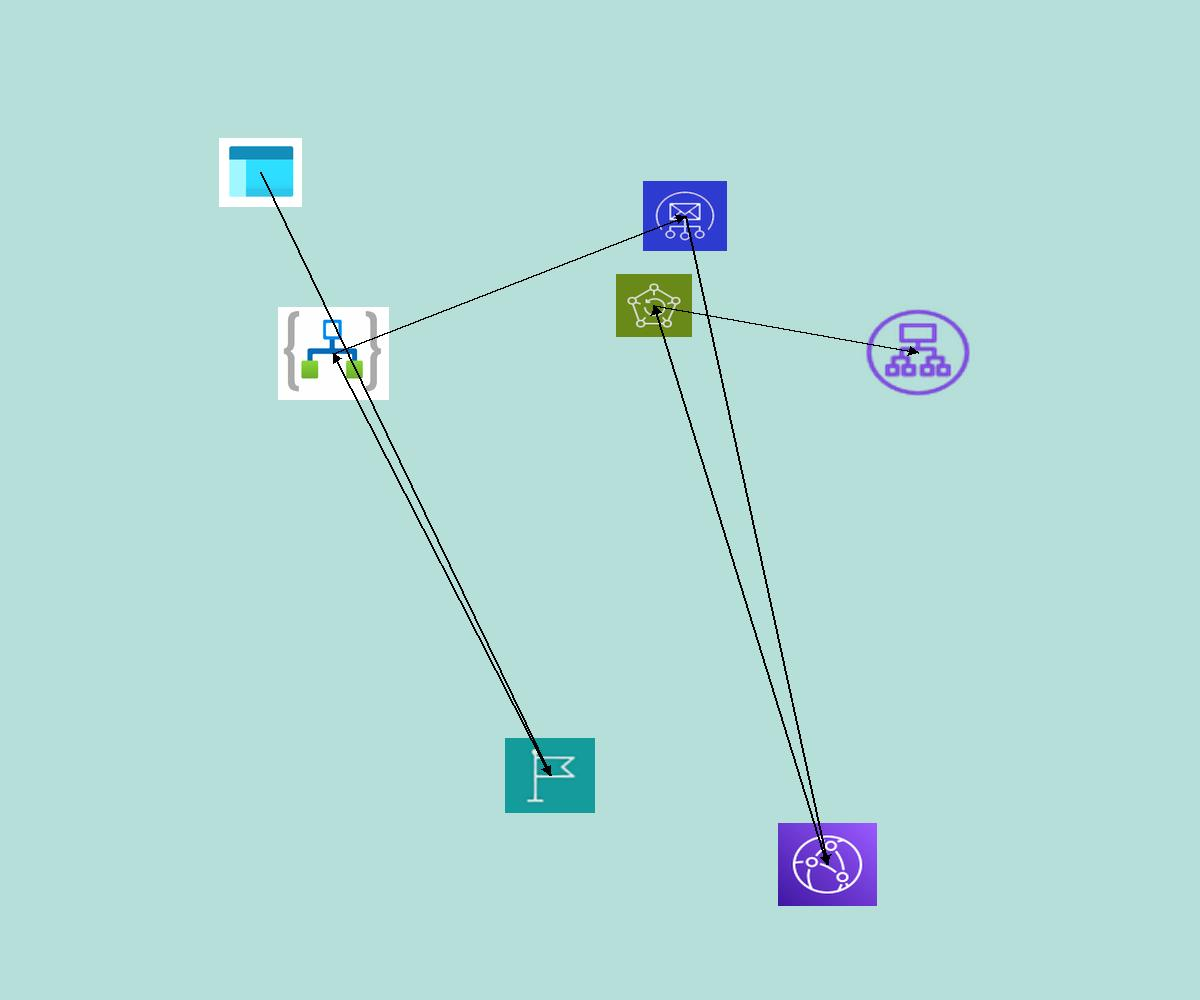AWS-Backup: (616, 274, 692, 337)
AWS-CloudFront: (778, 823, 877, 906)
AWS-Region: (505, 738, 595, 813)
AWS-Res_Elastic-Load-Balancing_Application-Load-Balancer: (862, 306, 974, 399)
AWS-Simple-Email-Service: (643, 181, 727, 251)
Azure_integration-204-Logic-Apps: (278, 307, 389, 400)
Azure_management-portal: (219, 138, 302, 207)
